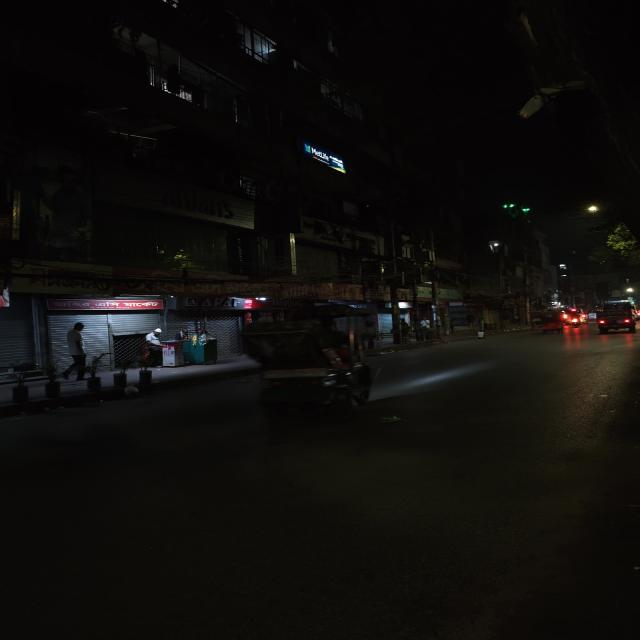car: (562, 306, 586, 328)
pedestrian: (52, 322, 98, 376)
pickup_van: (594, 299, 640, 335)
rickshaw: (237, 315, 391, 415), (532, 310, 569, 335)
